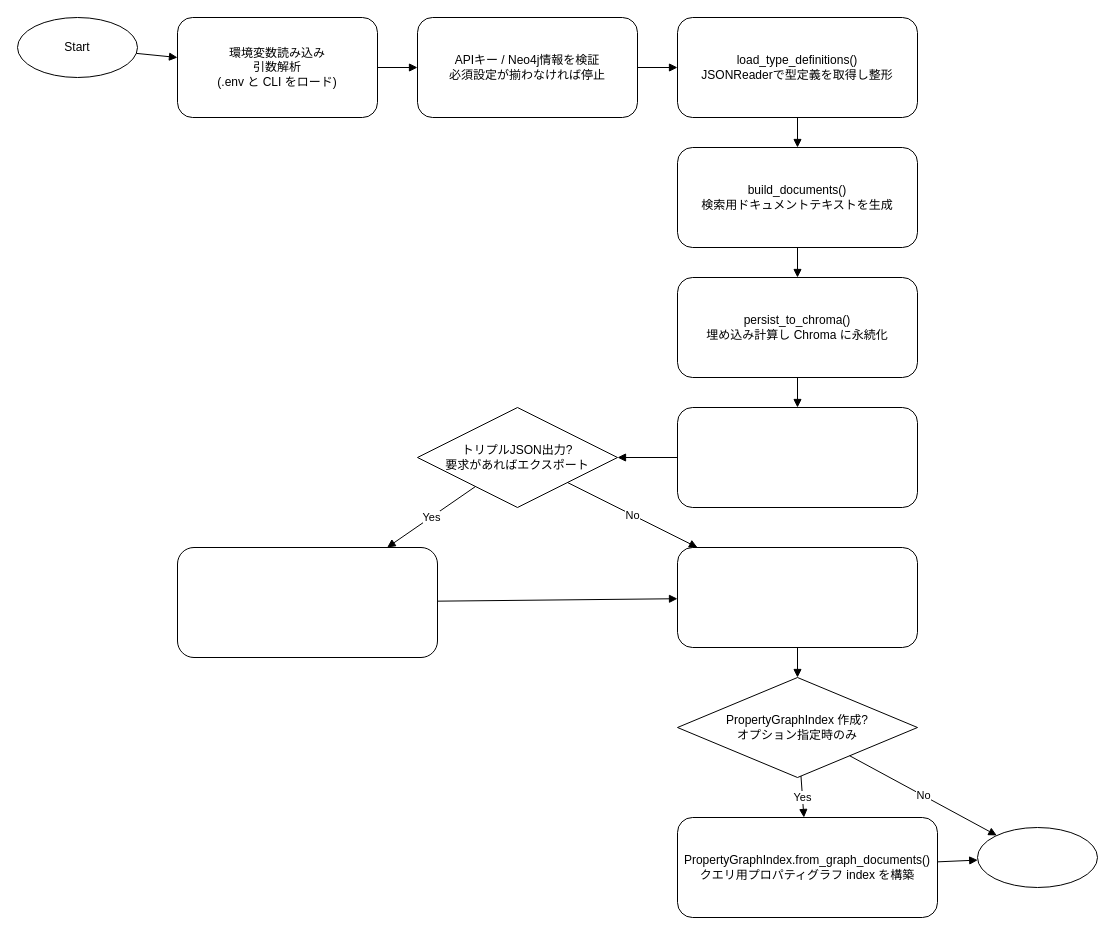
The diagram is 1115 pixels wide and 935 high, and some of its shapes have lost their labels. Each missing label, with the centre of its shape:
"build_graph_elements() 型定義からノード・リレーションを生成" belongs at [797,457].
"build_triples() / format_triples_extracted() 外部連携向けに JSON 保存" belongs at [307,602].
"End" belongs at [1037,857].
"persist_to_neo4j() Neo4j にノード/エッジを upsert" belongs at [797,597].
